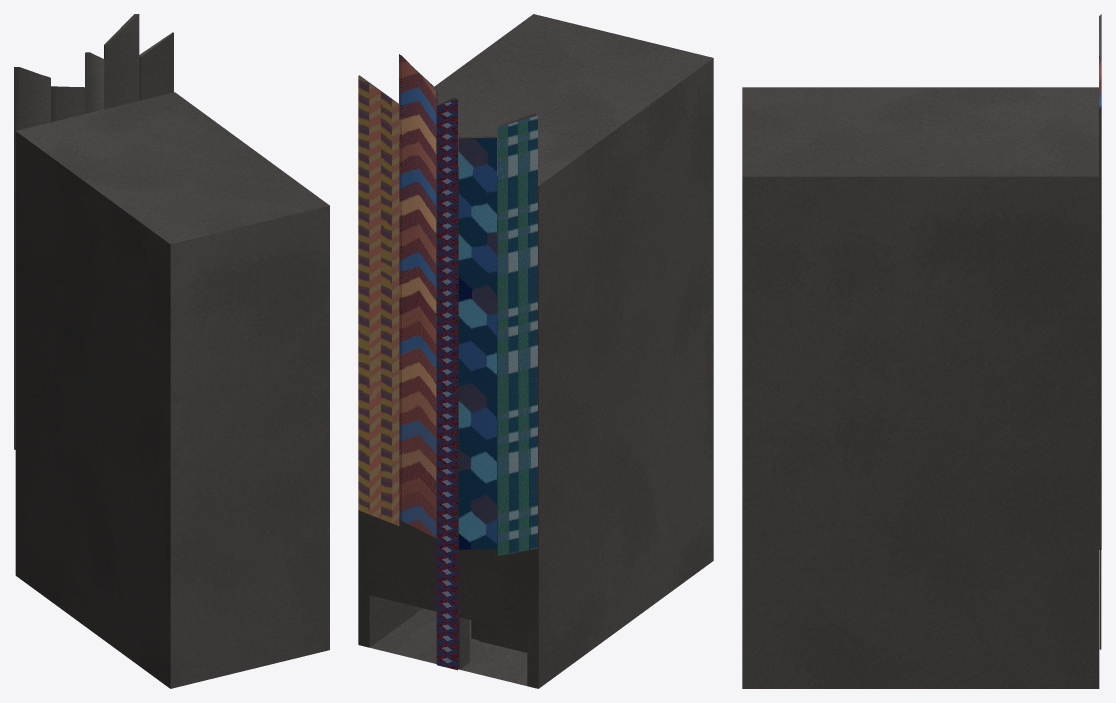
Rendered from ciitbuildingCube__6_.fbx.
The picture shows the model from 3 angles, left to right: view 1: azimuth 30°, elevation 25°; view 2: azimuth 150°, elevation 25°; view 3: azimuth 270°, elevation 25°; orthographic projection. The views are drawn at different scales.
Parts seen in each view (by area): view 1: Cube__6_; view 2: Cube__6_; view 3: Cube__6_.
Part boxes in pixels (x1,y1,x2,y2): Cube__6_: (14, 14, 329, 688); Cube__6_: (358, 14, 713, 688); Cube__6_: (742, 14, 1101, 688).
Size of the model in its own units: 1232 by 3918 by 2084.
